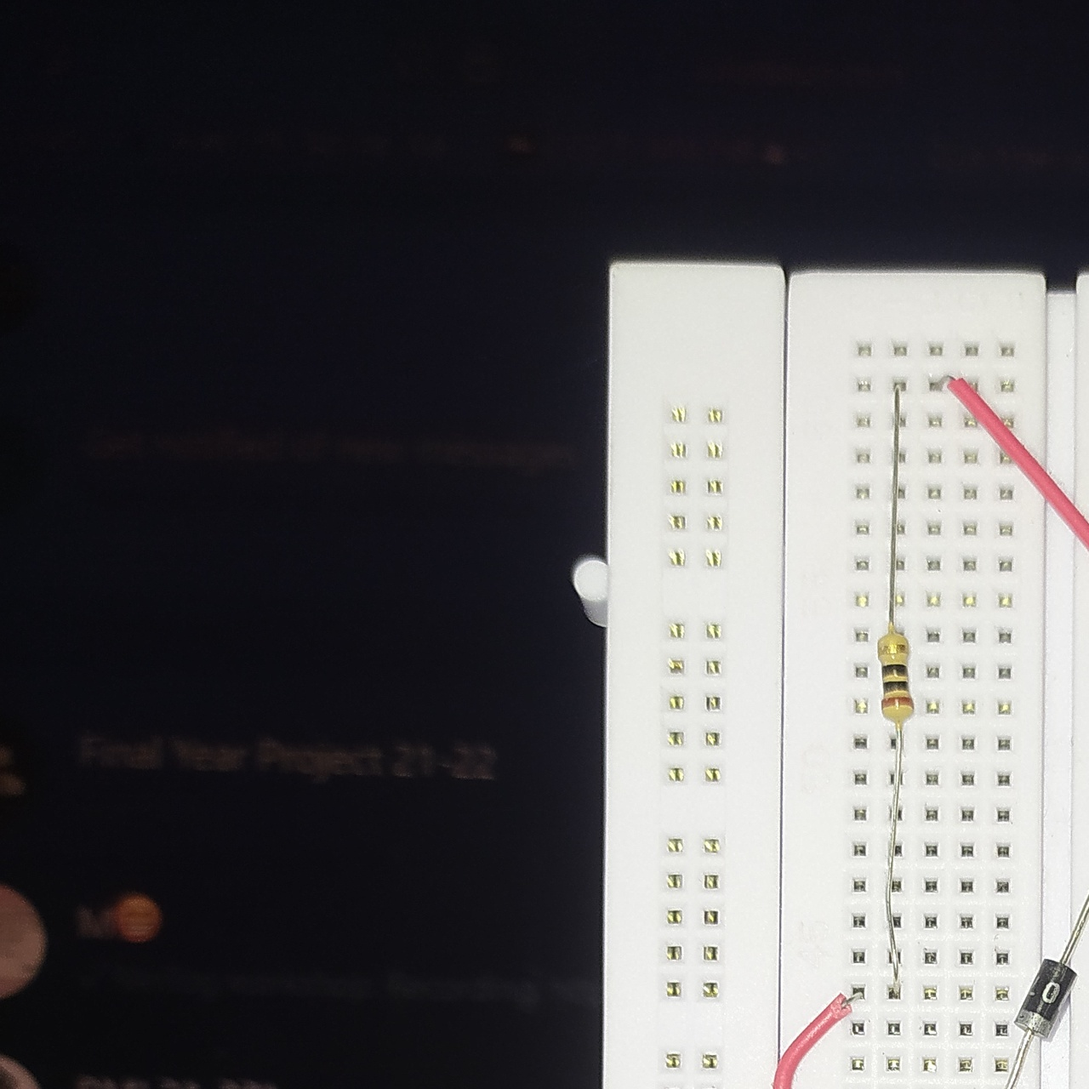resistor: (873, 629, 921, 731)
